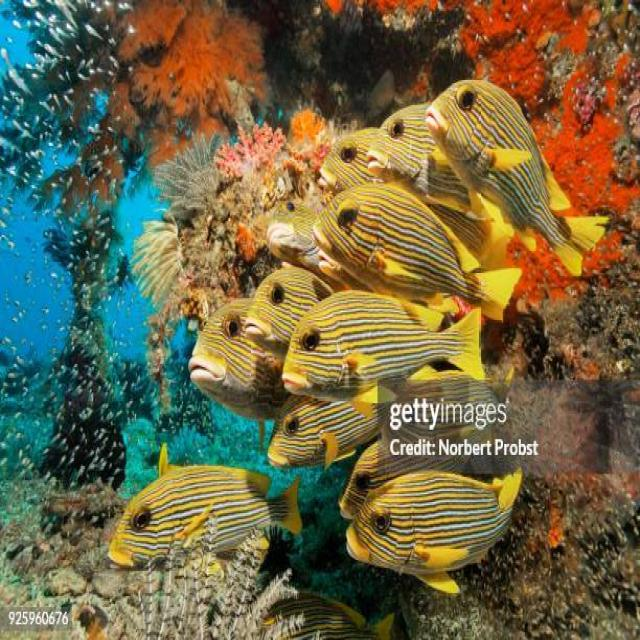RibbonedSweetlips: (425, 77, 609, 276), (312, 183, 521, 323), (105, 441, 302, 578), (282, 288, 486, 403), (344, 467, 522, 594), (188, 298, 292, 420), (267, 395, 388, 472), (243, 267, 334, 352)
